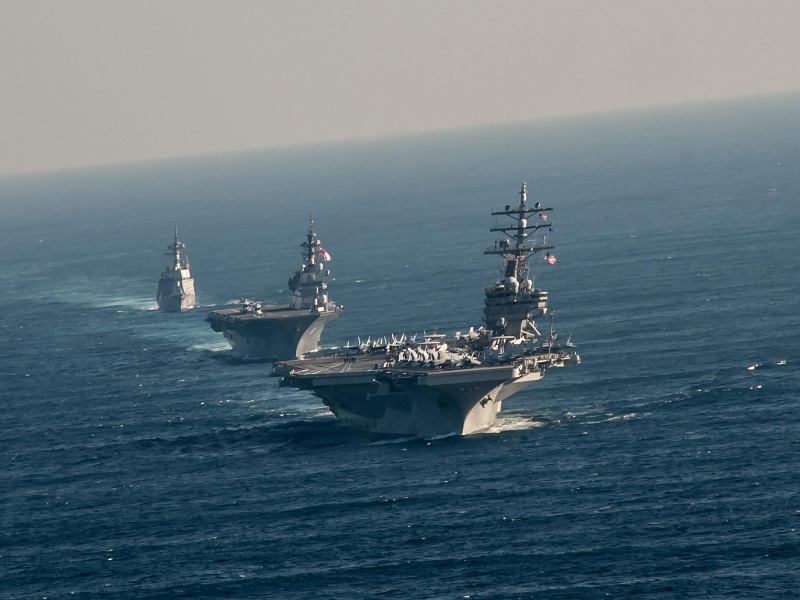carrier: (291, 316, 578, 436), (206, 281, 336, 364)
cruise: (147, 235, 201, 317)
